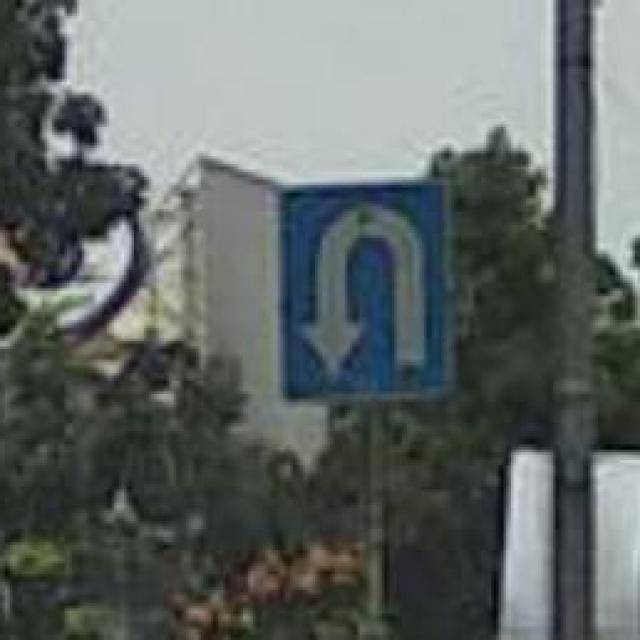U-turn: (279, 185, 447, 396)
